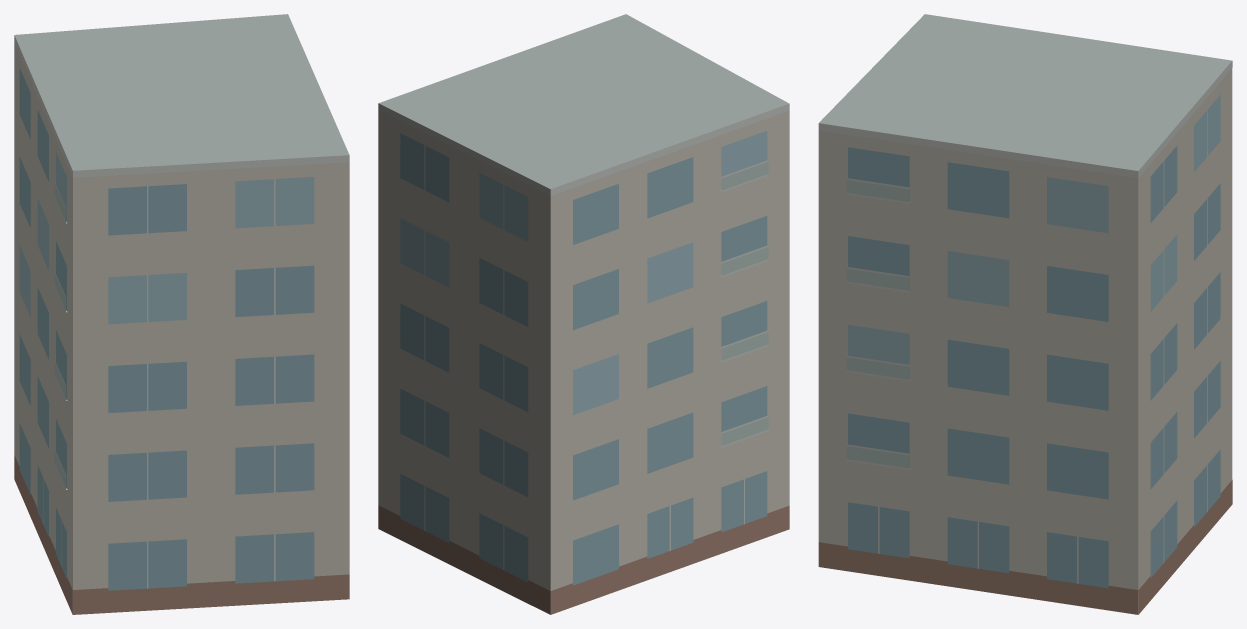
File: survey-upis-32785735.glb
The picture shows the model from 3 angles, left to right: view 1: azimuth 30°, elevation 25°; view 2: azimuth 150°, elevation 25°; view 3: azimuth 270°, elevation 25°; orthographic projection. The views are drawn at different scales.
Parts seen in each view (by area): view 1: survey-upis-32785735.tmp; view 2: survey-upis-32785735.tmp; view 3: survey-upis-32785735.tmp.
Boxes of the visible parts, left/top/right/bottom form: survey-upis-32785735.tmp: left=14, top=14, right=349, bottom=614; survey-upis-32785735.tmp: left=378, top=14, right=789, bottom=614; survey-upis-32785735.tmp: left=818, top=14, right=1232, bottom=614.
Bounding box in the file's own units: 11.59 × 15.25 × 12.9.
